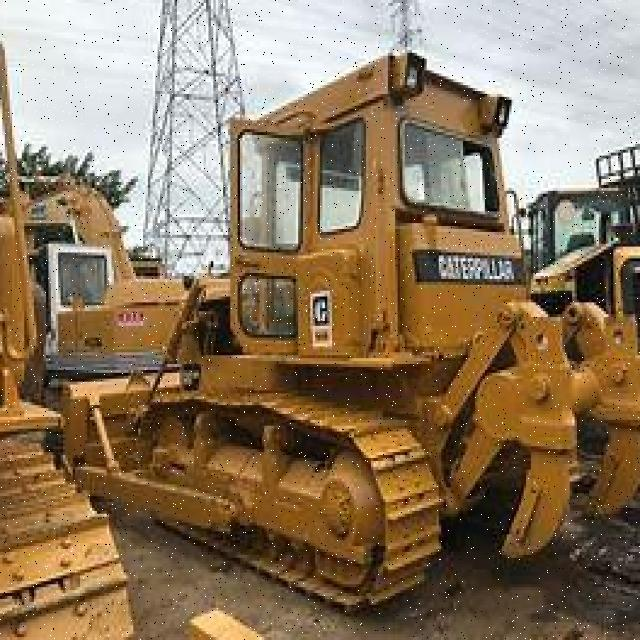Bulldozer: (68, 35, 640, 611)
